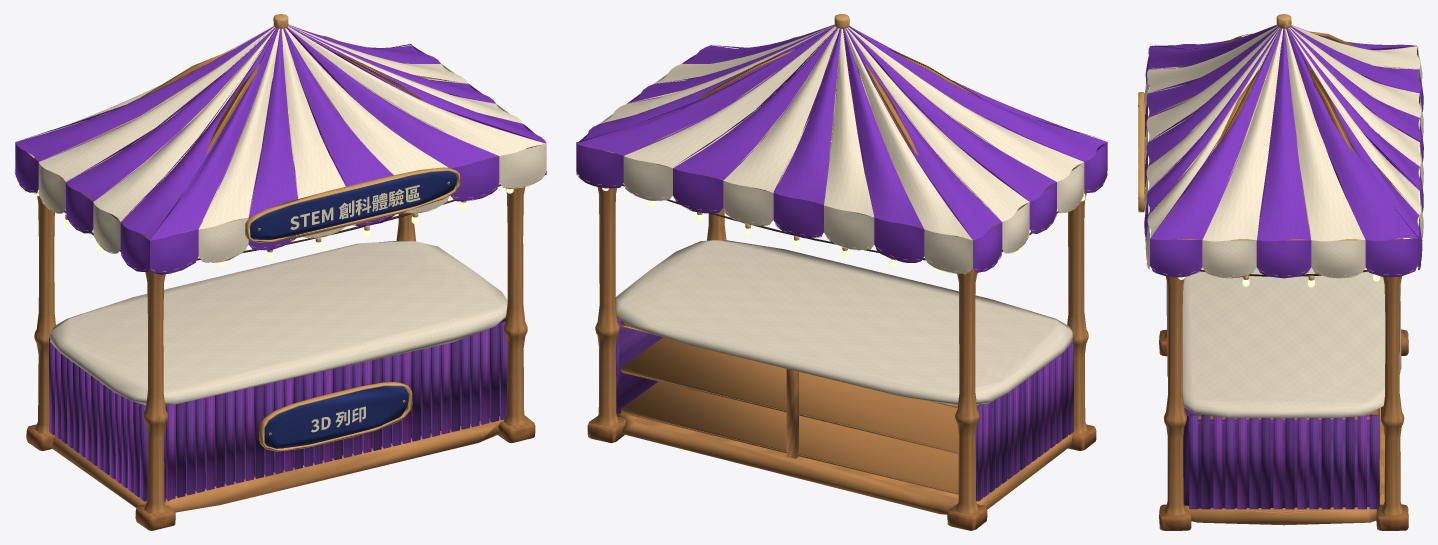
Rendered from stem-booth.glb.
3 renders of one model, left to right at view 1: azimuth 30°, elevation 25°; view 2: azimuth 150°, elevation 25°; view 3: azimuth 270°, elevation 25°, orthographic.
Parts seen in each view (by area): view 1: Compact terrazzo counter · continuous roundover, Scalloped full-weight valance with rounded fold, Scalloped full-weight valance with rounded fold.001, Counter base with rounded outer molding, Curved side cabinet stave, Curved side cabinet stave.001, Colored stove-enamel backing plate, Curved side cabinet stave.002, Brass joinery band, Scallop rolled and bound hem, Individual decorative saddle stitch, Rounded pocket housing for column (+1 smaller); view 2: Counter base with rounded outer molding, Scalloped full-weight valance with rounded fold, Compact terrazzo counter · continuous roundover, Scalloped full-weight valance with rounded fold.001, Curved side cabinet stave, Curved side cabinet stave.002, Curved side cabinet stave.001, Scallop rolled and bound hem, Rounded pocket housing for column, Individual decorative saddle stitch, Brass joinery band; view 3: Scalloped full-weight valance with rounded fold, Scalloped full-weight valance with rounded fold.001, Compact terrazzo counter · continuous roundover, Counter base with rounded outer molding, Curved side cabinet stave, Curved side cabinet stave.001, Curved side cabinet stave.002, Rounded pocket housing for column, Scallop rolled and bound hem, Brass joinery band, Individual decorative saddle stitch.
Part boxes in pixels (x1=…): Compact terrazzo counter · continuous roundover: x1=50, y1=240, x2=507, y2=405; Scalloped full-weight valance with rounded fold: x1=15, y1=24, x2=546, y2=273; Scalloped full-weight valance with rounded fold.001: x1=27, y1=25, x2=546, y2=262; Counter base with rounded outer molding: x1=34, y1=35, x2=527, y2=513; Curved side cabinet stave: x1=49, y1=318, x2=507, y2=501; Curved side cabinet stave.001: x1=61, y1=318, x2=505, y2=498; Colored stove-enamel backing plate: x1=250, y1=171, x2=456, y2=448; Curved side cabinet stave.002: x1=55, y1=328, x2=489, y2=501; Brass joinery band: x1=65, y1=14, x2=466, y2=451; Scallop rolled and bound hem: x1=15, y1=27, x2=546, y2=274; Individual decorative saddle stitch: x1=14, y1=25, x2=543, y2=271; Rounded pocket housing for column: x1=26, y1=416, x2=535, y2=530; Counter base with rounded outer molding: x1=595, y1=37, x2=1088, y2=514; Scalloped full-weight valance with rounded fold: x1=576, y1=24, x2=1107, y2=271; Compact terrazzo counter · continuous roundover: x1=615, y1=240, x2=1072, y2=405; Scalloped full-weight valance with rounded fold.001: x1=600, y1=25, x2=1084, y2=273; Curved side cabinet stave: x1=616, y1=317, x2=1074, y2=501; Curved side cabinet stave.002: x1=617, y1=317, x2=1061, y2=496; Curved side cabinet stave.001: x1=989, y1=347, x2=1067, y2=492; Scallop rolled and bound hem: x1=576, y1=26, x2=1107, y2=272; Rounded pocket housing for column: x1=587, y1=416, x2=1096, y2=530; Individual decorative saddle stitch: x1=576, y1=26, x2=1107, y2=274; Brass joinery band: x1=623, y1=14, x2=1084, y2=493; Scalloped full-weight valance with rounded fold: x1=1144, y1=25, x2=1423, y2=277; Scalloped full-weight valance with rounded fold.001: x1=1144, y1=25, x2=1423, y2=277; Compact terrazzo counter · continuous roundover: x1=1166, y1=267, x2=1401, y2=418; Counter base with rounded outer molding: x1=1164, y1=31, x2=1404, y2=525; Curved side cabinet stave: x1=1188, y1=414, x2=1379, y2=509; Curved side cabinet stave.001: x1=1183, y1=407, x2=1354, y2=509; Curved side cabinet stave.002: x1=1213, y1=415, x2=1366, y2=509; Rounded pocket housing for column: x1=1159, y1=329, x2=1408, y2=530; Scallop rolled and bound hem: x1=1145, y1=40, x2=1420, y2=278; Brass joinery band: x1=1138, y1=14, x2=1413, y2=498; Individual decorative saddle stitch: x1=1145, y1=25, x2=1422, y2=278.
Size of the model in its own units: 3.17 by 3.09 by 1.91.
15 materials, 8 textured.
